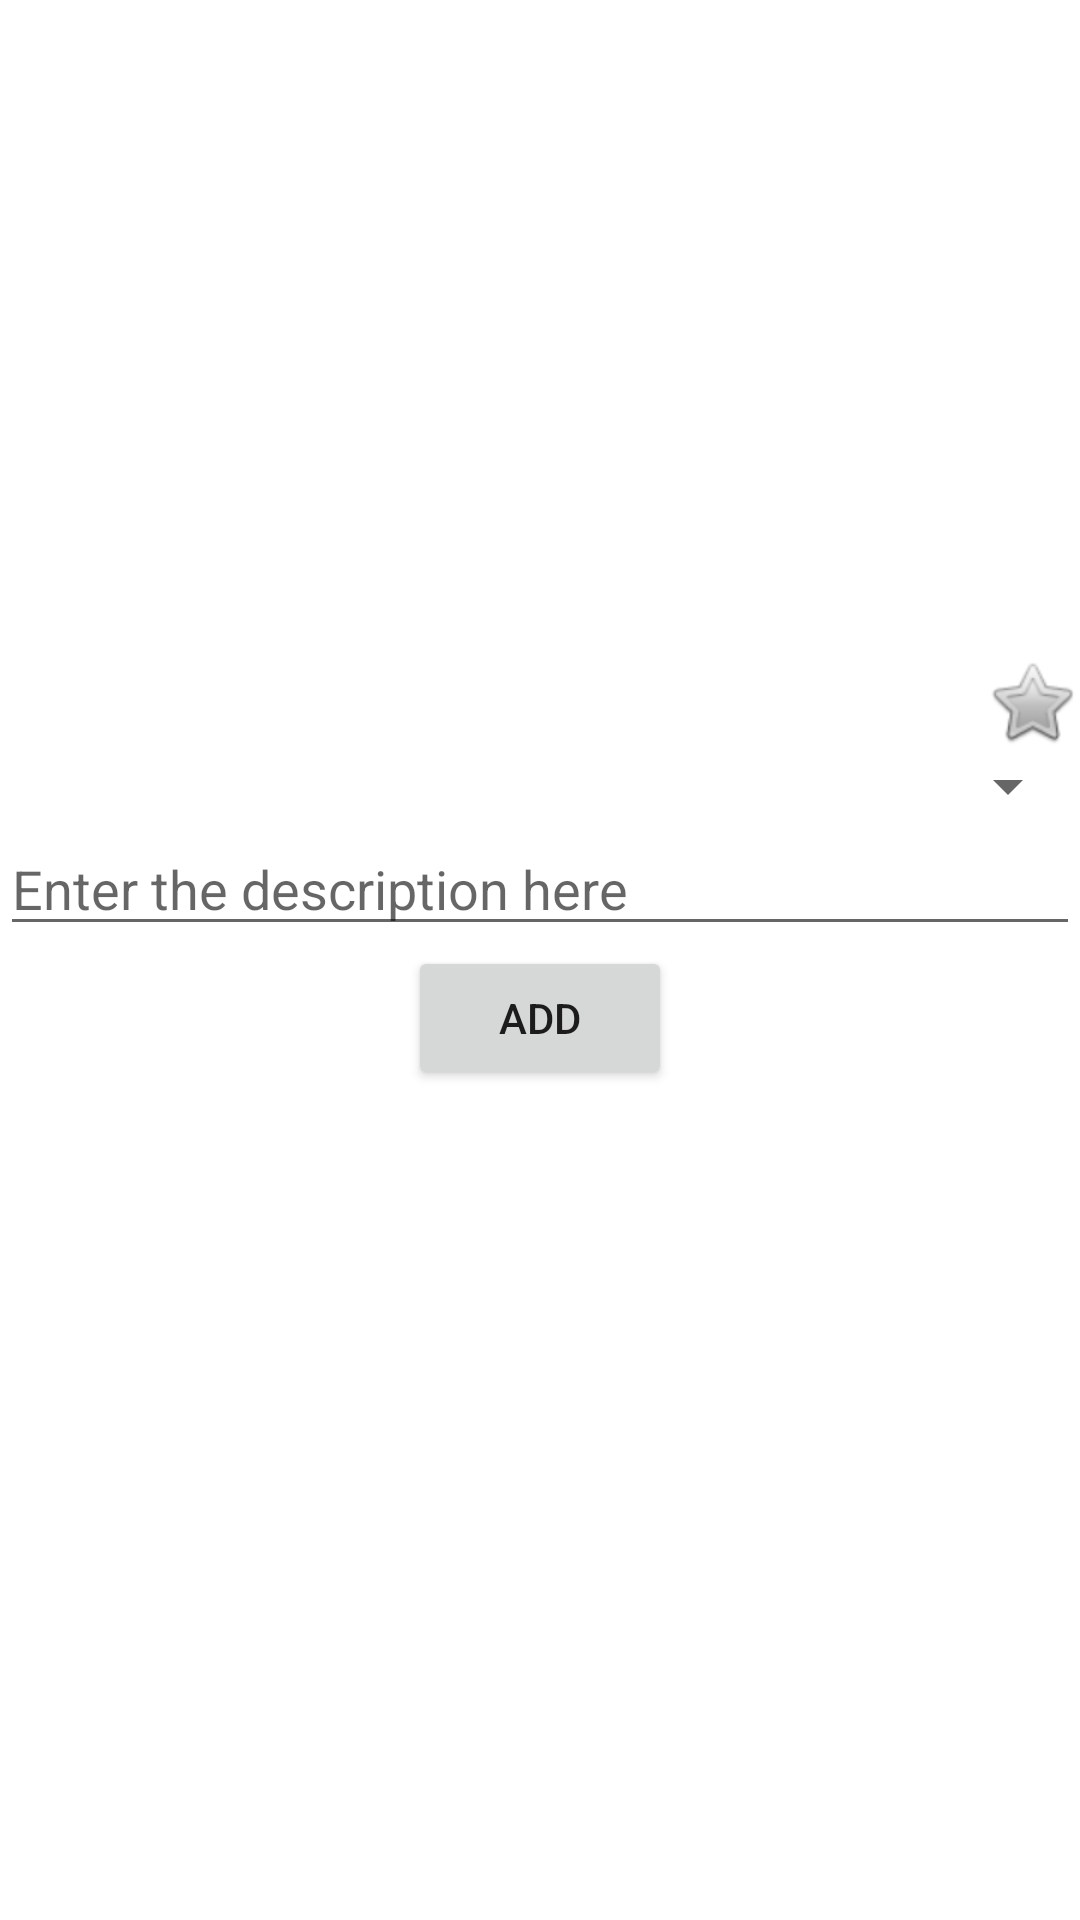

Screen size 1080 x 1920. Icon name, then its box in pixels as [x1=x1, y1=y1, x2=x2, y2=y2]:
star: [x1=993, y1=664, x2=1073, y2=742]
